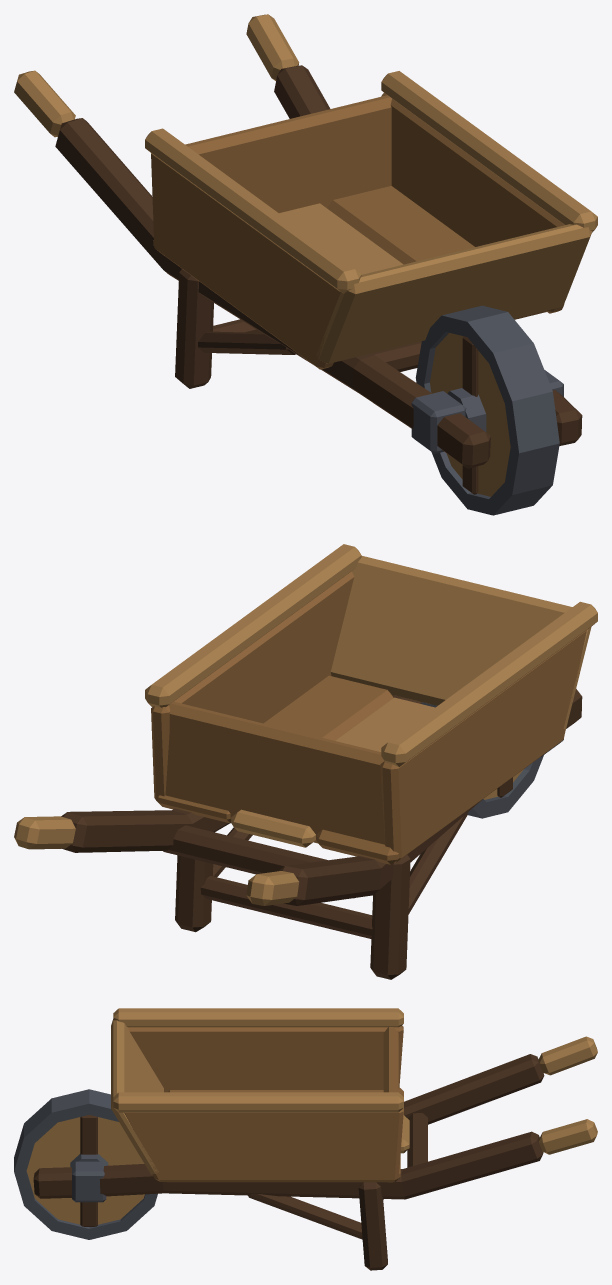
The model's file is wheelbarrow.glb.
3 renders of one model, top to bottom at view 1: azimuth 30°, elevation 25°; view 2: azimuth 150°, elevation 25°; view 3: azimuth 270°, elevation 25°, orthographic. The views are drawn at different scales.
Parts seen in each view (by area): view 1: wheelbarrow; view 2: wheelbarrow; view 3: wheelbarrow.
Part boxes in pixels (x1,y1,x2,y2): wheelbarrow: (14, 14, 597, 515); wheelbarrow: (14, 544, 597, 979); wheelbarrow: (14, 1008, 597, 1270).
Bounding box in the file's own units: 0.3205 × 0.2916 × 0.8535.
